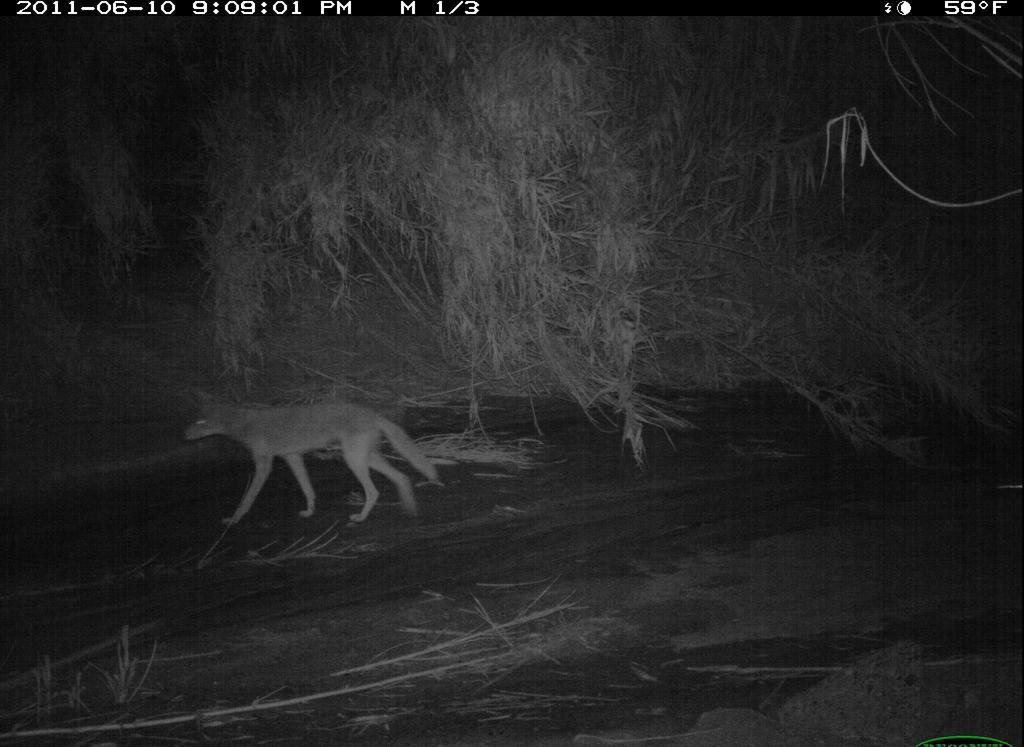coyote: (177, 376, 450, 545)
